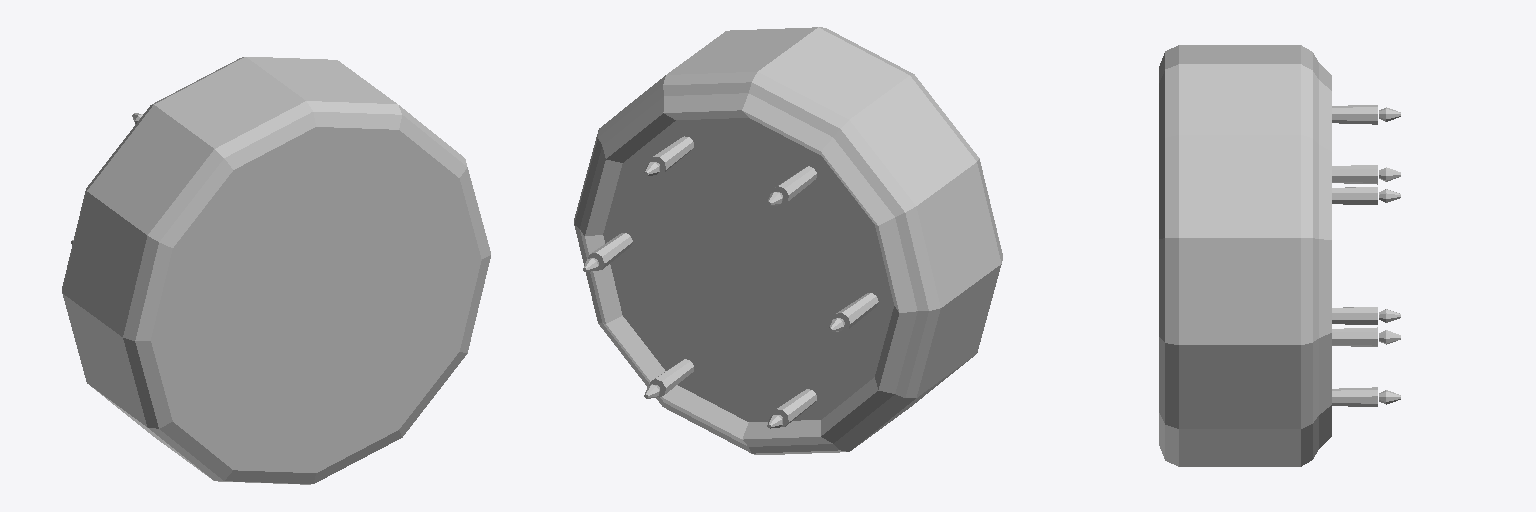
Rendered from cake-birthday_w1_p125@object.obj.
3 views of the same model, side by side, from view 1: azimuth 30°, elevation 25°; view 2: azimuth 150°, elevation 25°; view 3: azimuth 270°, elevation 25° (orthographic).
Parts seen in each view (by area): view 1: cake-birthday; view 2: cake-birthday; view 3: cake-birthday.
Part boxes in pixels (x1,y1,x2,y2): cake-birthday: (62,57,490,484); cake-birthday: (574,27,1002,454); cake-birthday: (1159,45,1400,466).
Bounding box in the file's own units: 0.6392 × 0.6392 × 0.3638.